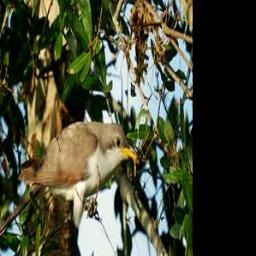Cuckoo: (16, 116, 140, 253)
